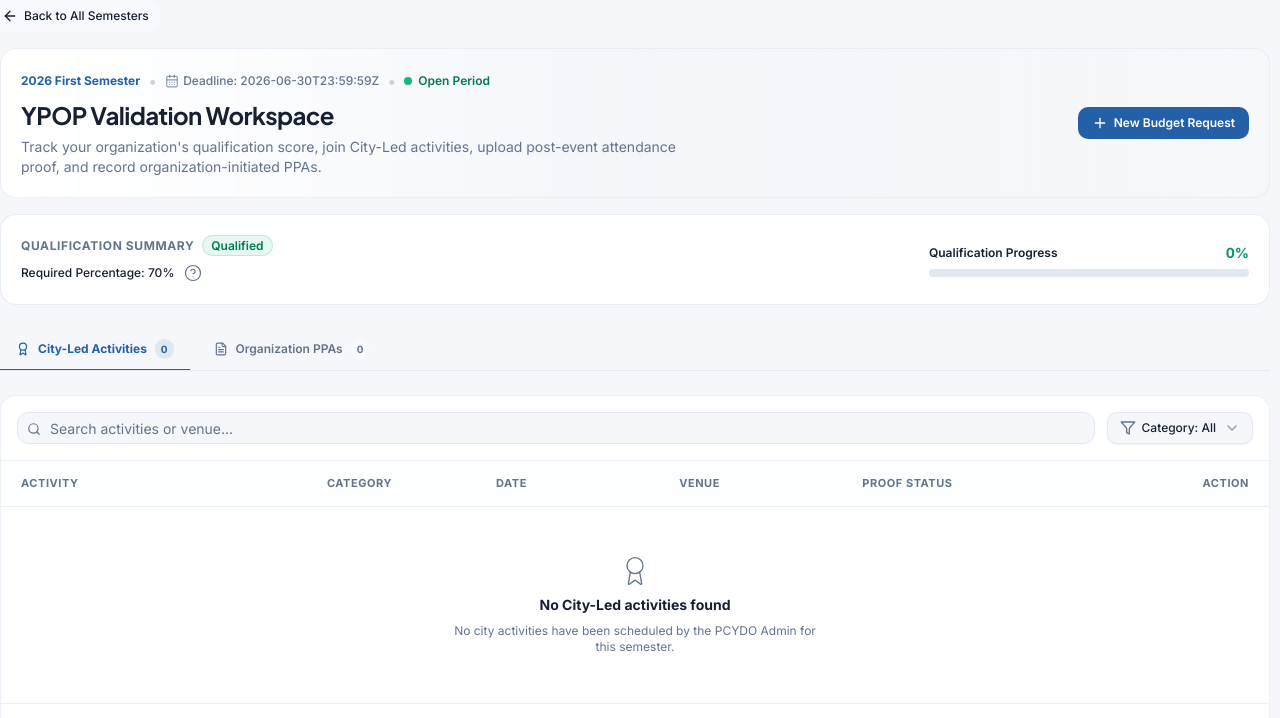
Test: YPOP Semester Workspace - Budget Request Entry Point Matrix › 15. User YPOP Workspace ? opens actual computation breakdown popover matching admin data
Click the button named "View actual YPOP qualification computation" at coordinates (193, 273), box x1=182 y1=262 x2=204 y2=284
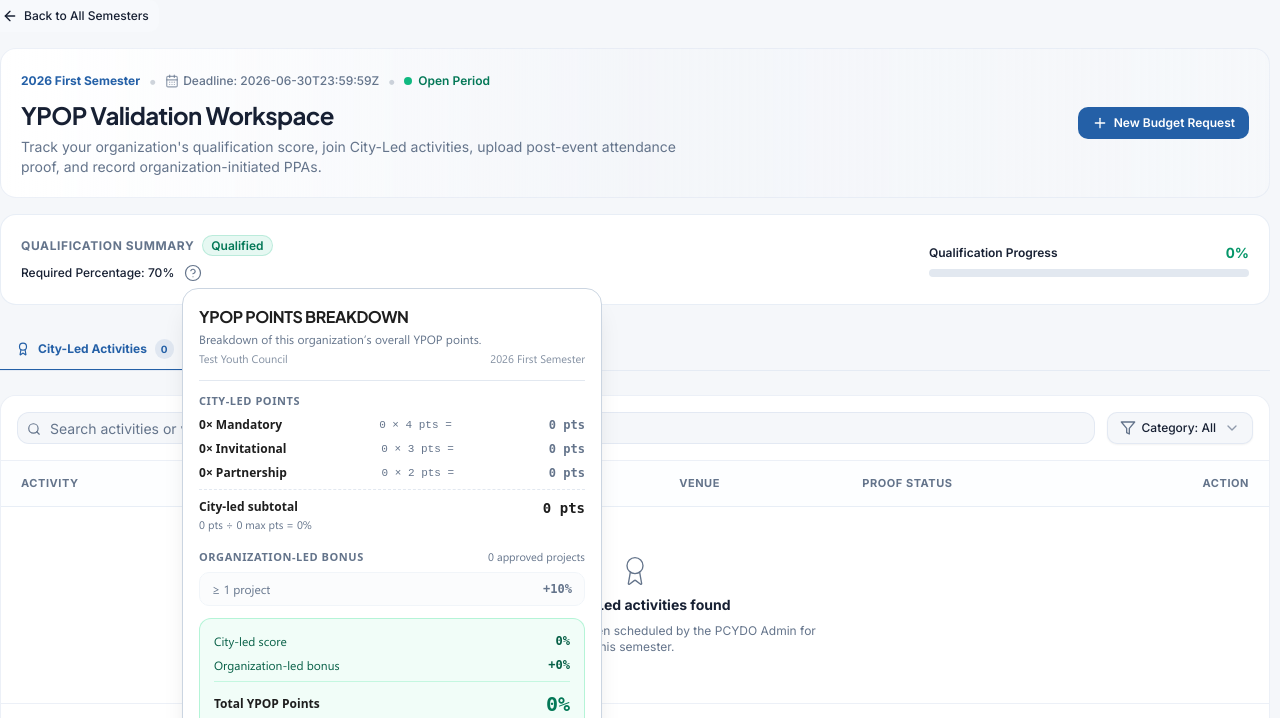
Expected: the heading "YPOP POINTS BREAKDOWN" is shown, x1=199 y1=306 x2=409 y2=327
Expected: the text "City-Led Points" is shown, x1=199 y1=392 x2=300 y2=408
Expected: the text "Organization-Led Bonus" is shown, x1=199 y1=549 x2=364 y2=566
